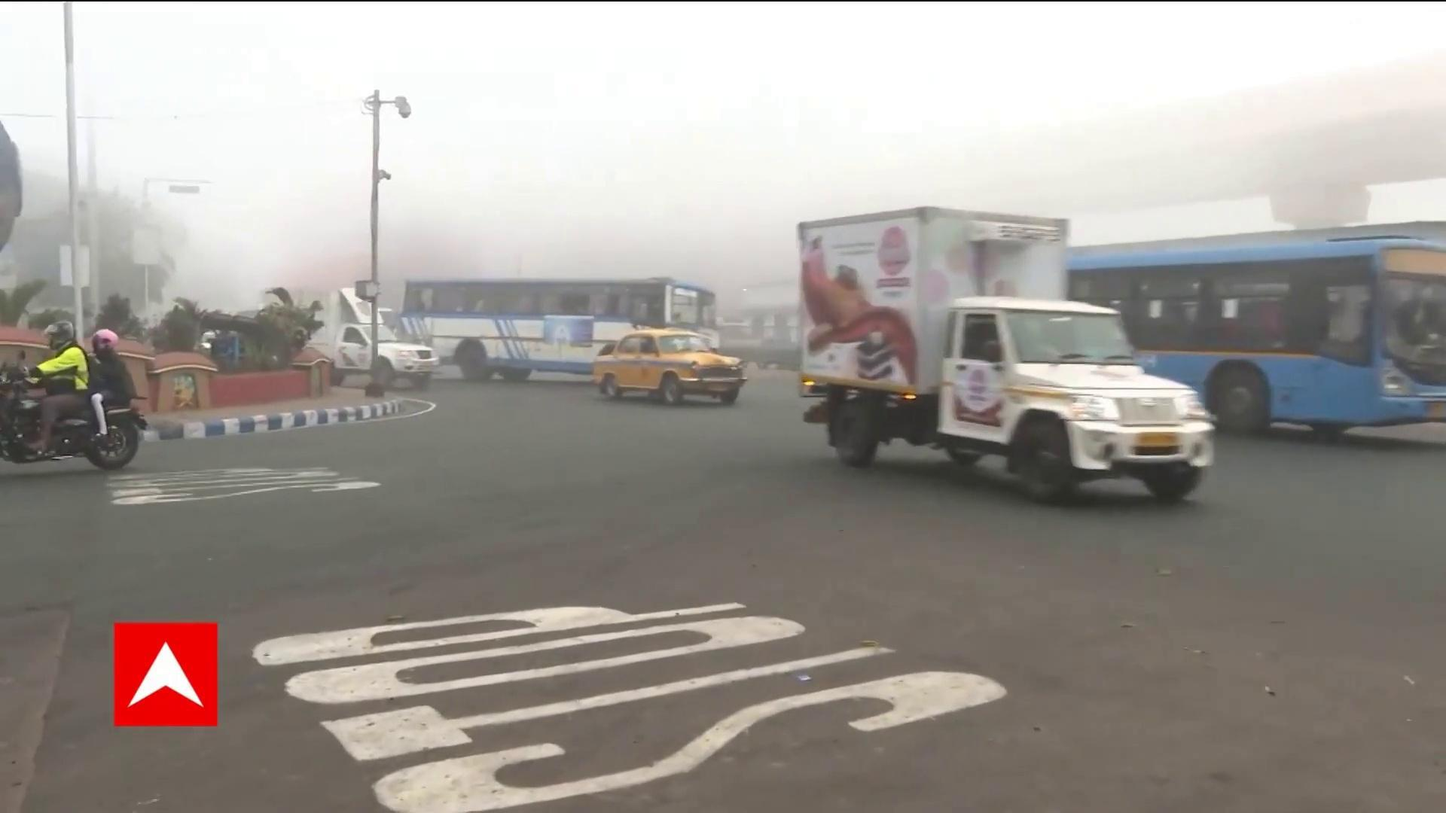Bike: (0, 326, 158, 490)
Bus: (1036, 216, 1446, 422), (401, 274, 722, 396)
Car: (589, 331, 744, 406)
Truck: (784, 201, 1213, 499), (290, 283, 442, 395)
